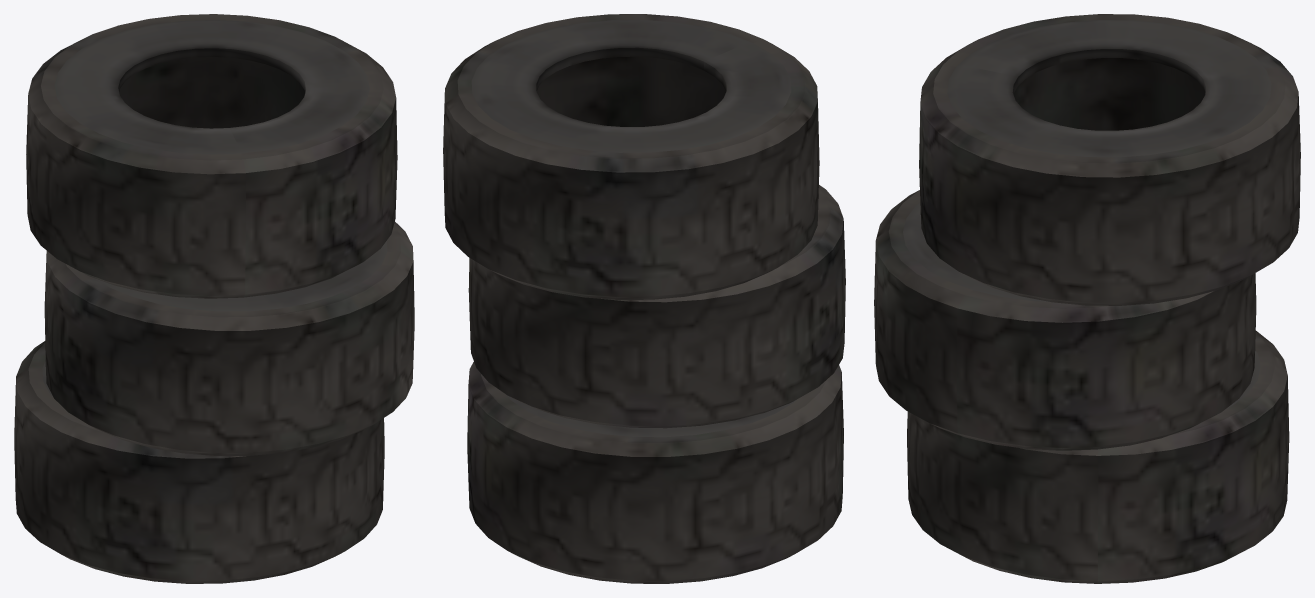
The model's file is tyre-stack--1.gltf.
3 renders of one model, left to right at view 1: azimuth 30°, elevation 25°; view 2: azimuth 150°, elevation 25°; view 3: azimuth 270°, elevation 25°, orthographic. The views are drawn at different scales.
Visible parts, largest first — view 1: opon.005; view 2: opon.005; view 3: opon.005.
Part boxes in pixels (x1=…): opon.005: x1=14, y1=14, x2=414, y2=583; opon.005: x1=443, y1=14, x2=845, y2=583; opon.005: x1=874, y1=14, x2=1300, y2=583.
Size of the model in its own units: 0.8358 by 0.9948 by 0.8837.
1 material, 1 textured.
